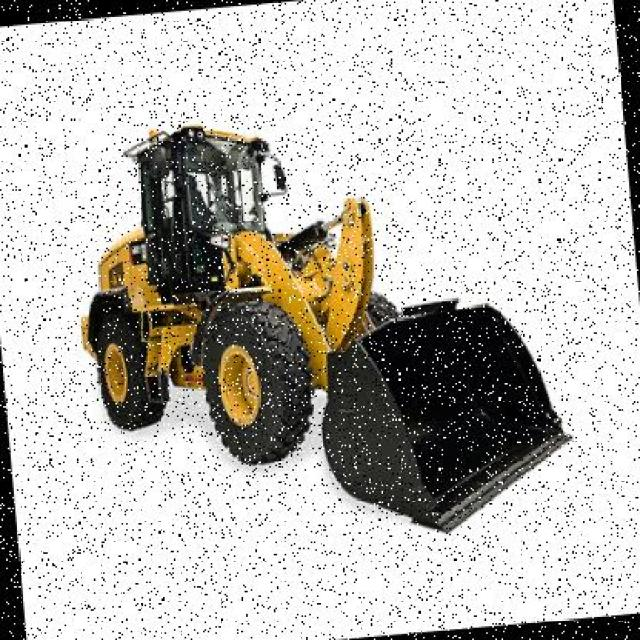buldozerpayloadergrader: (58, 81, 584, 570)
